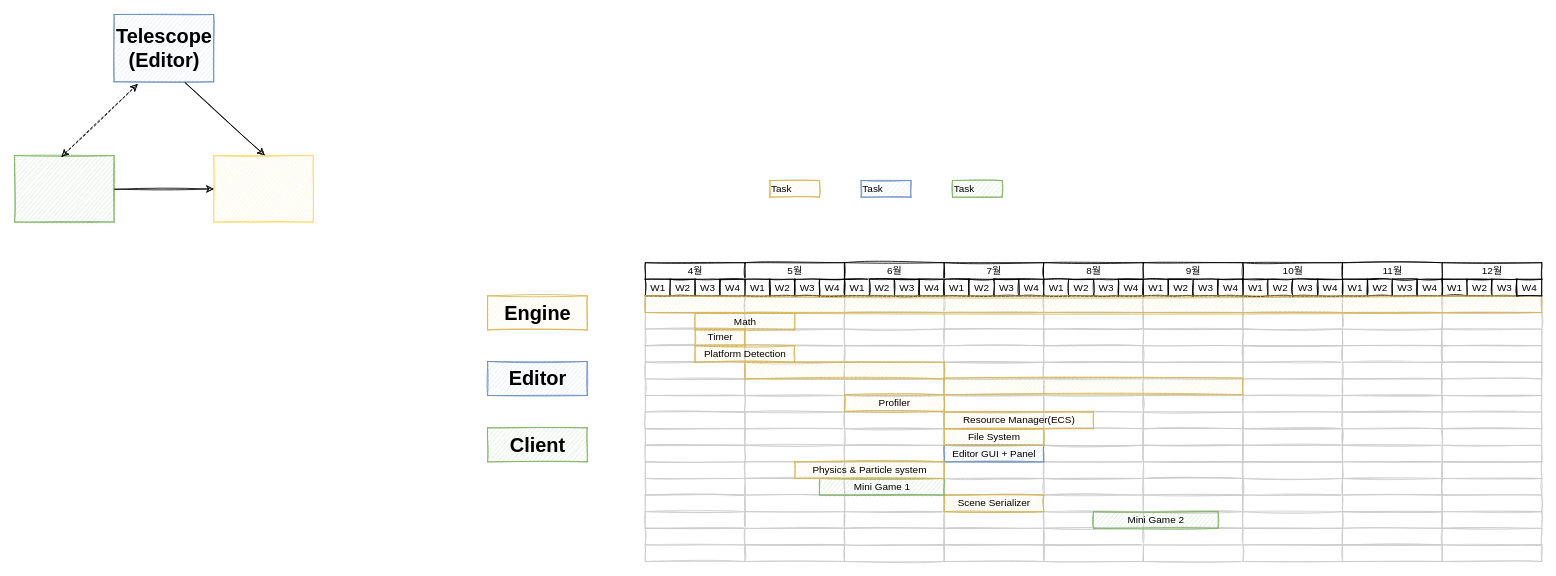
Image size: 1556x576. Some labels were removed from this diagram. The box of each missing label's shape, as (x1, y1, x2, y2) in pixels:
Client (Game): (14, 155, 114, 222)
Kepler (Engine): (213, 155, 313, 222)
Refactoring: (644, 295, 1542, 312)
Renderer(2D): (744, 361, 944, 379)
Renderer(3D): (943, 377, 1243, 395)
